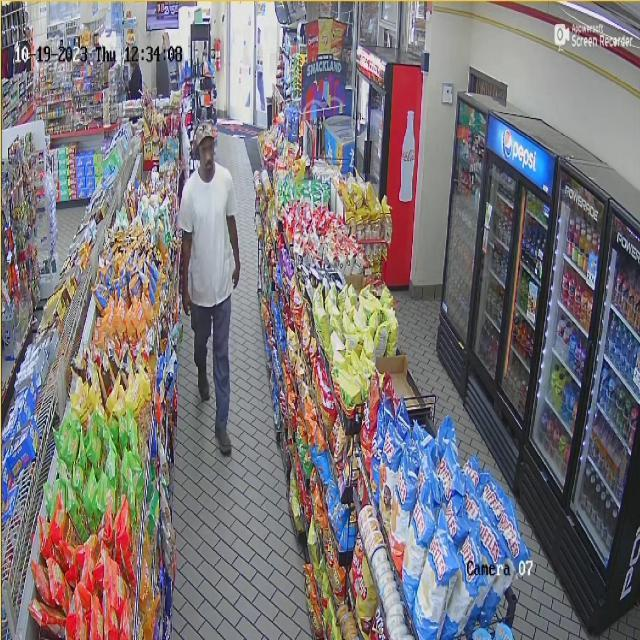Normal: (176, 109, 244, 465)
